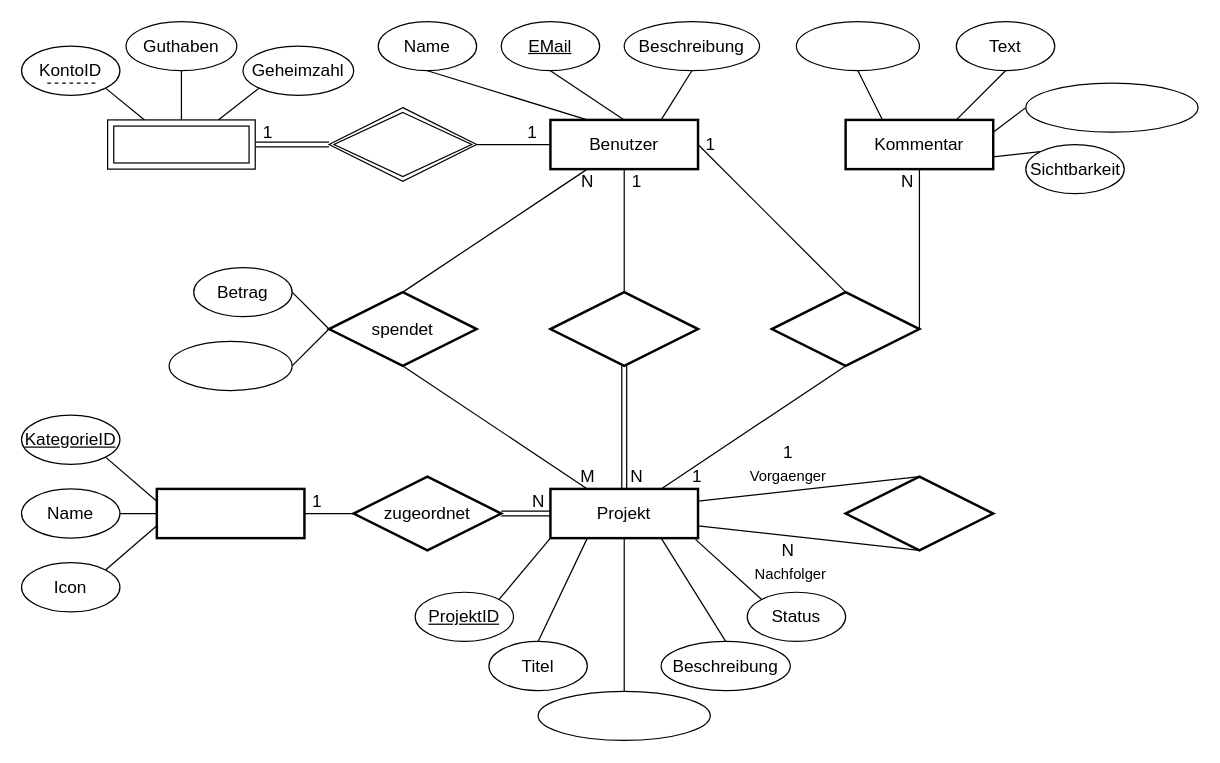
Image size: 1220x763. Some labels were removed from this diagram. The shapes that lost their labels are listed below. From the top down, each one's centre as x and y in pixels, then its label:
At point (857, 45): "KommentarID".
At point (1111, 107): "Erstellungsdatum".
At point (180, 144): "Konto".
At point (402, 143): "besitzt".
At point (624, 328): "erstellt".
At point (845, 328): "schreibt".
At point (230, 365): "Privatsphaere".
At point (230, 513): "Kategorie".
At point (919, 513): "ist_vorgaenger".
At point (623, 715): "Finanzierungslimit".
